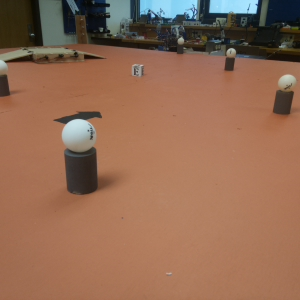obstacle: (63, 119, 99, 198), (274, 75, 294, 118), (1, 58, 12, 100), (226, 48, 236, 72), (177, 37, 185, 56)
side: (31, 52, 86, 65)
slope: (1, 50, 33, 64), (81, 48, 107, 62)
